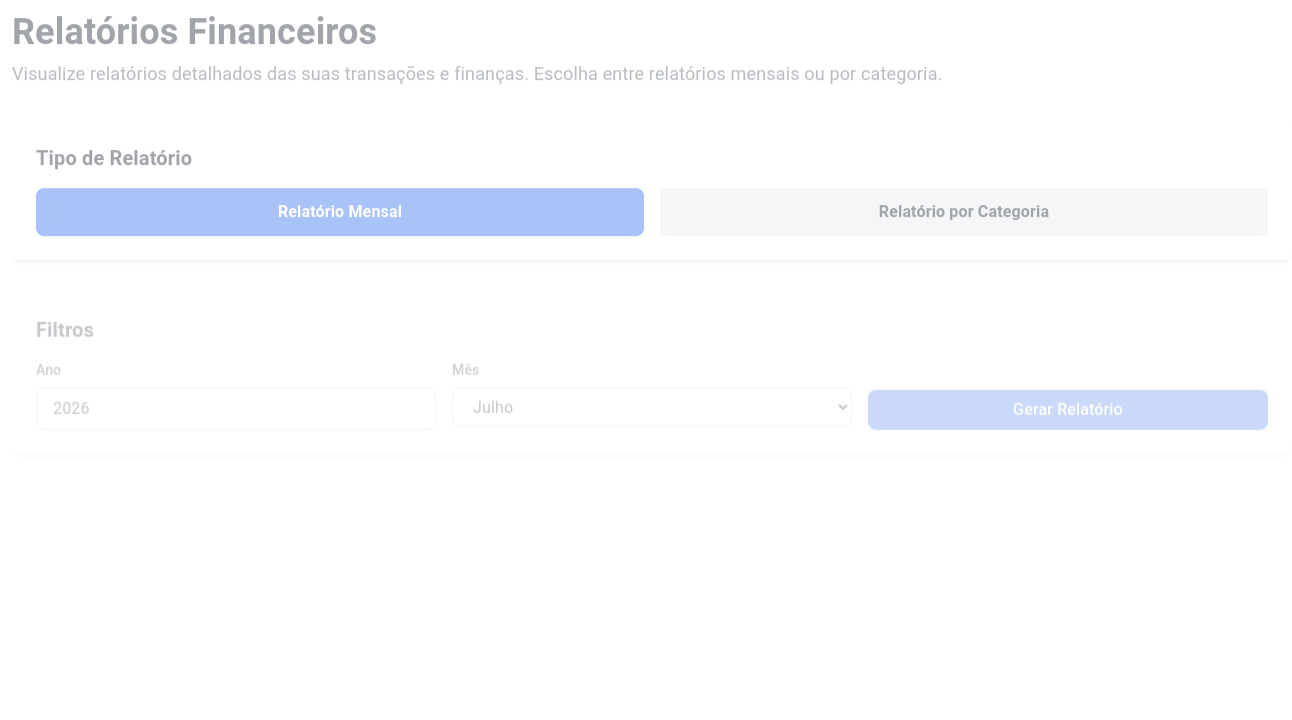
Test: ReportsPage Component › ReportsPage Component › should display category breakdown table
Click the button "Gerar Relatório": coordinates (1068, 410) [868,390,1268,430]
(page scrolled)
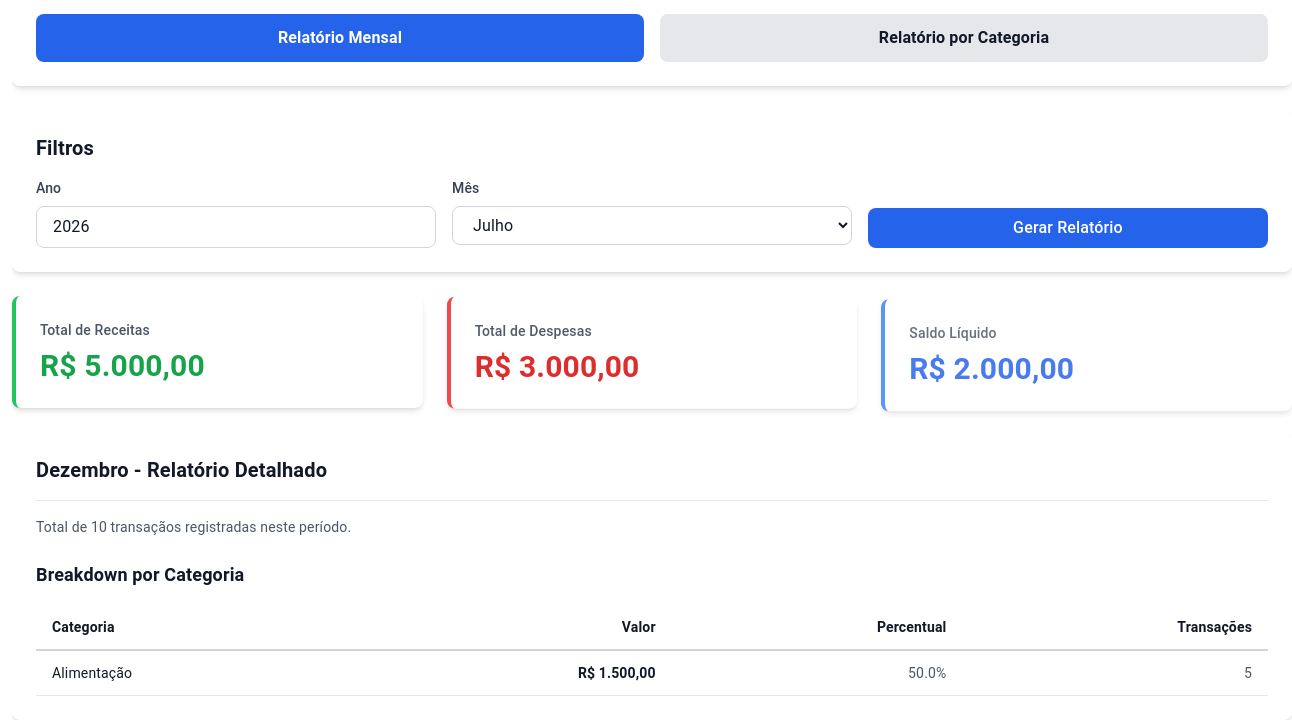
Expected: the text "Alimentação" is shown, [52,663,132,683]
Expected: the text "50.0%" is shown, [672,650,962,696]
